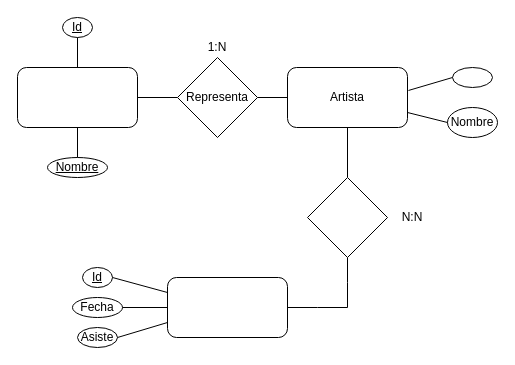
Image size: 515x365. Some labels were removed from this diagram. The centre of each missing label's shape, as x and y in pixels:
Evento: point (227, 307)
Mananger: point (77, 97)
NIF: point (472, 77)
Participa: point (347, 217)
